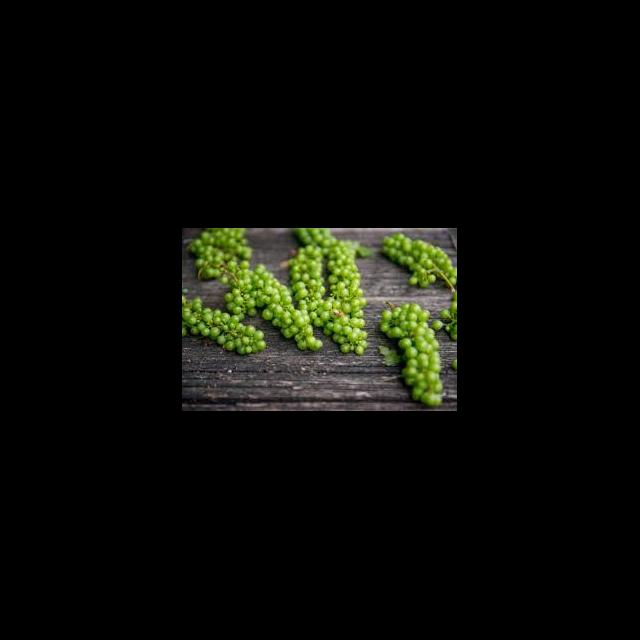grape: (378, 300, 444, 406)
